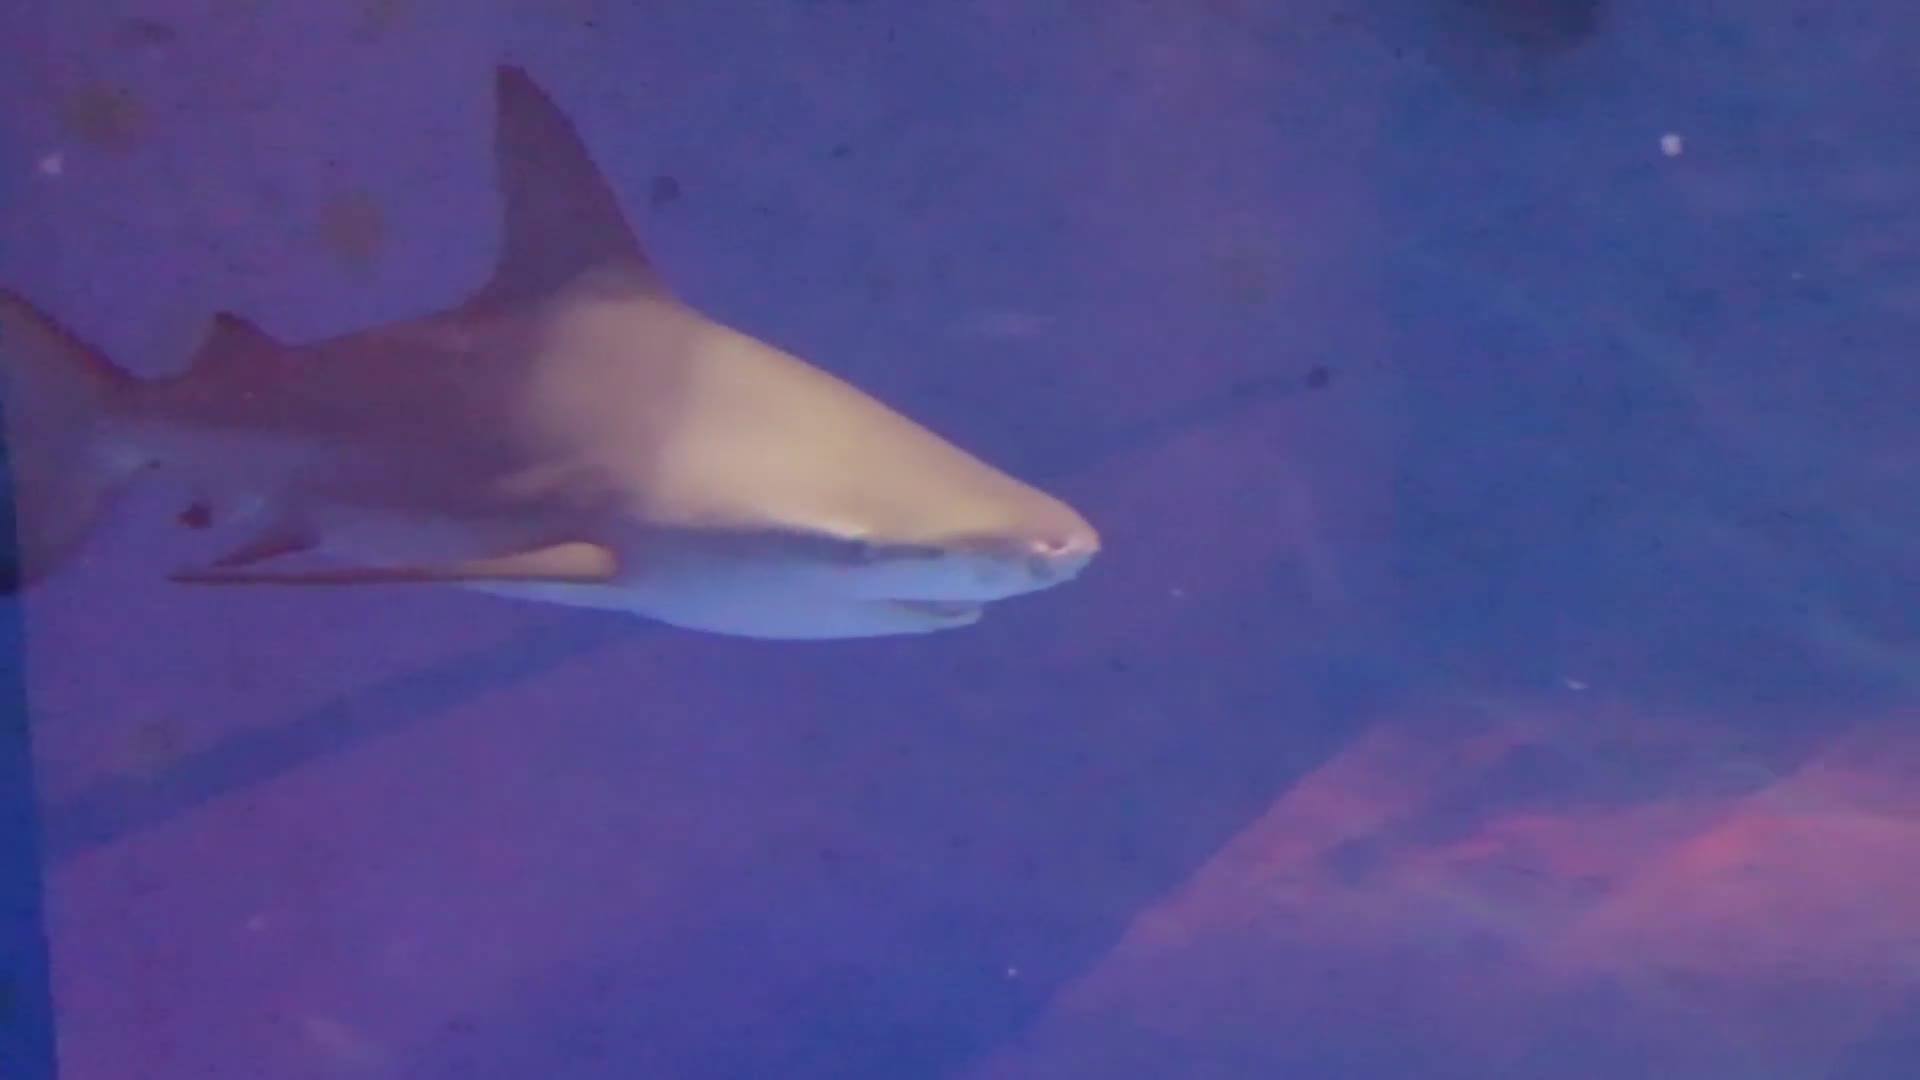Carcharhinus leucas: (1, 1, 1129, 680)
